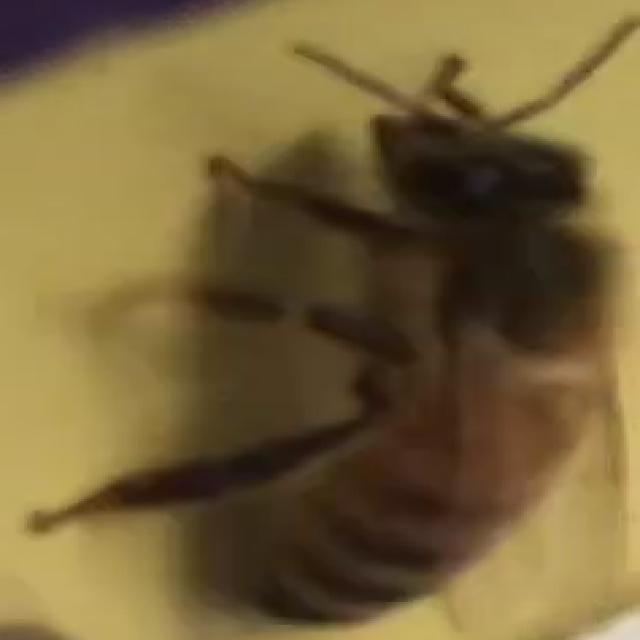honeybee: (2, 40, 608, 592)
